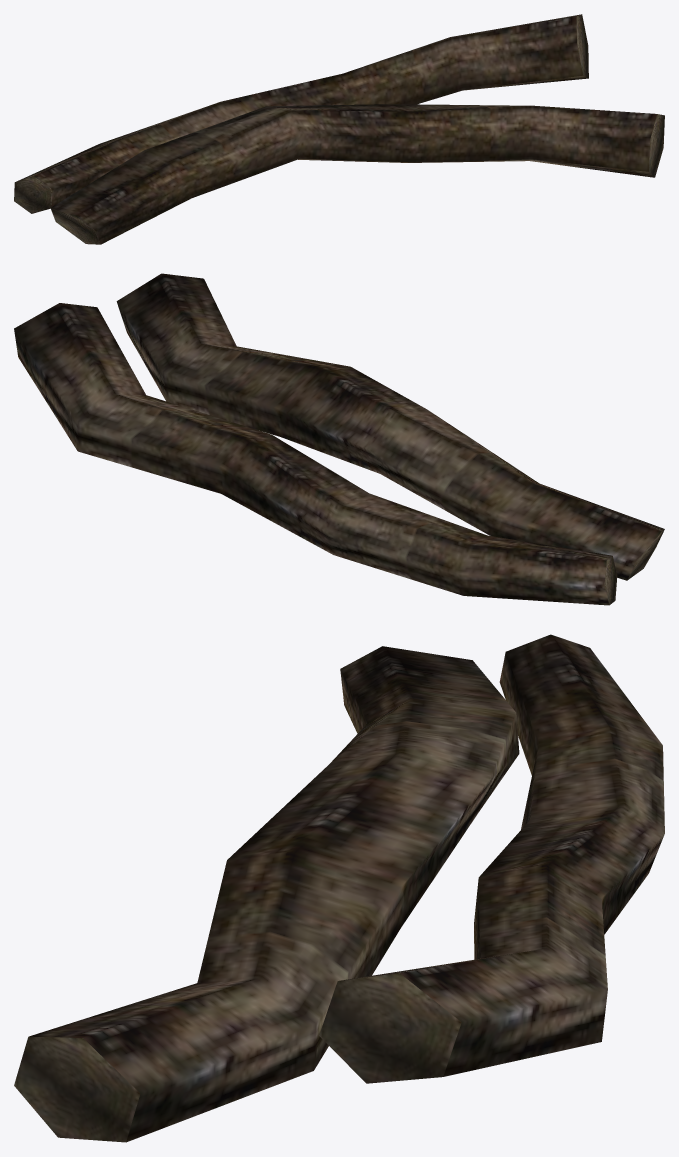
File: tre_gagi01.glb
3 renders of one model, top to bottom at view 1: azimuth 30°, elevation 25°; view 2: azimuth 150°, elevation 25°; view 3: azimuth 270°, elevation 25°, orthographic. The views are drawn at different scales.
Visible parts, largest first — view 1: tre_gagi01; view 2: tre_gagi01; view 3: tre_gagi01.
Boxes of the visible parts, bbox=[...] form: tre_gagi01: bbox=[14, 14, 664, 244]; tre_gagi01: bbox=[14, 273, 664, 605]; tre_gagi01: bbox=[14, 634, 664, 1142].
Bounding box in the file's own units: 7.06 × 1.33 × 3.91.
Materials: 1 (1 with a texture image).
